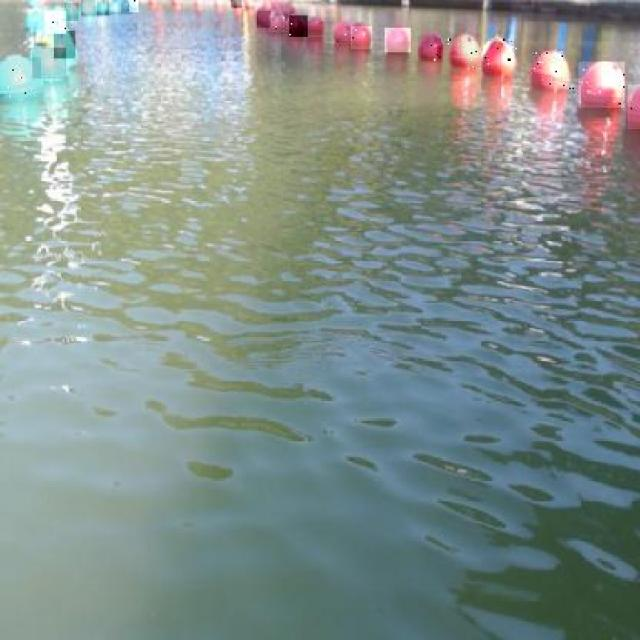green_ball: (0, 55, 44, 100), (34, 11, 66, 51), (32, 48, 66, 80), (26, 8, 54, 39), (50, 33, 76, 66), (51, 6, 66, 34), (64, 1, 76, 22), (81, 0, 95, 17), (97, 0, 109, 17), (119, 1, 132, 16), (110, 1, 120, 15), (129, 1, 137, 16)
red_ball: (578, 60, 624, 109), (484, 35, 518, 81), (534, 52, 569, 92), (451, 34, 481, 70), (418, 32, 446, 64), (386, 29, 411, 56), (336, 20, 354, 52), (628, 85, 640, 131), (352, 26, 372, 53), (307, 16, 326, 40), (268, 2, 296, 18), (289, 16, 308, 36), (272, 14, 288, 36), (256, 10, 272, 28), (194, 0, 205, 12), (169, 0, 183, 9), (147, 1, 159, 11), (216, 0, 225, 10), (235, 0, 242, 10)
